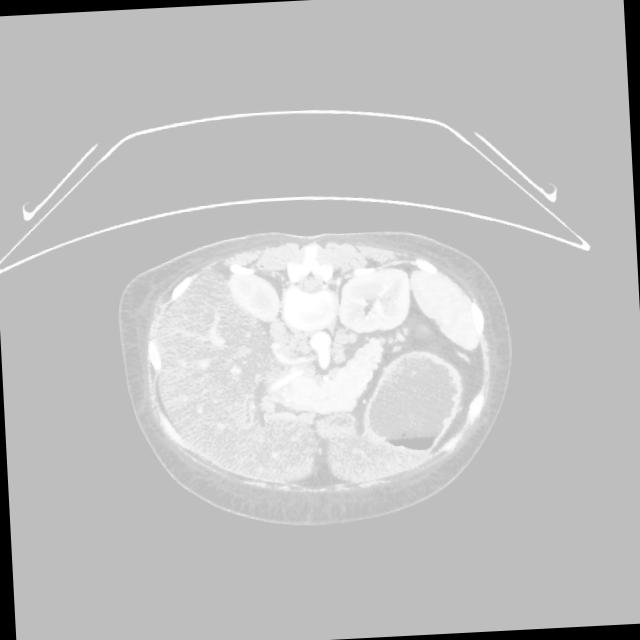NORMAL: (89, 202, 538, 552)
